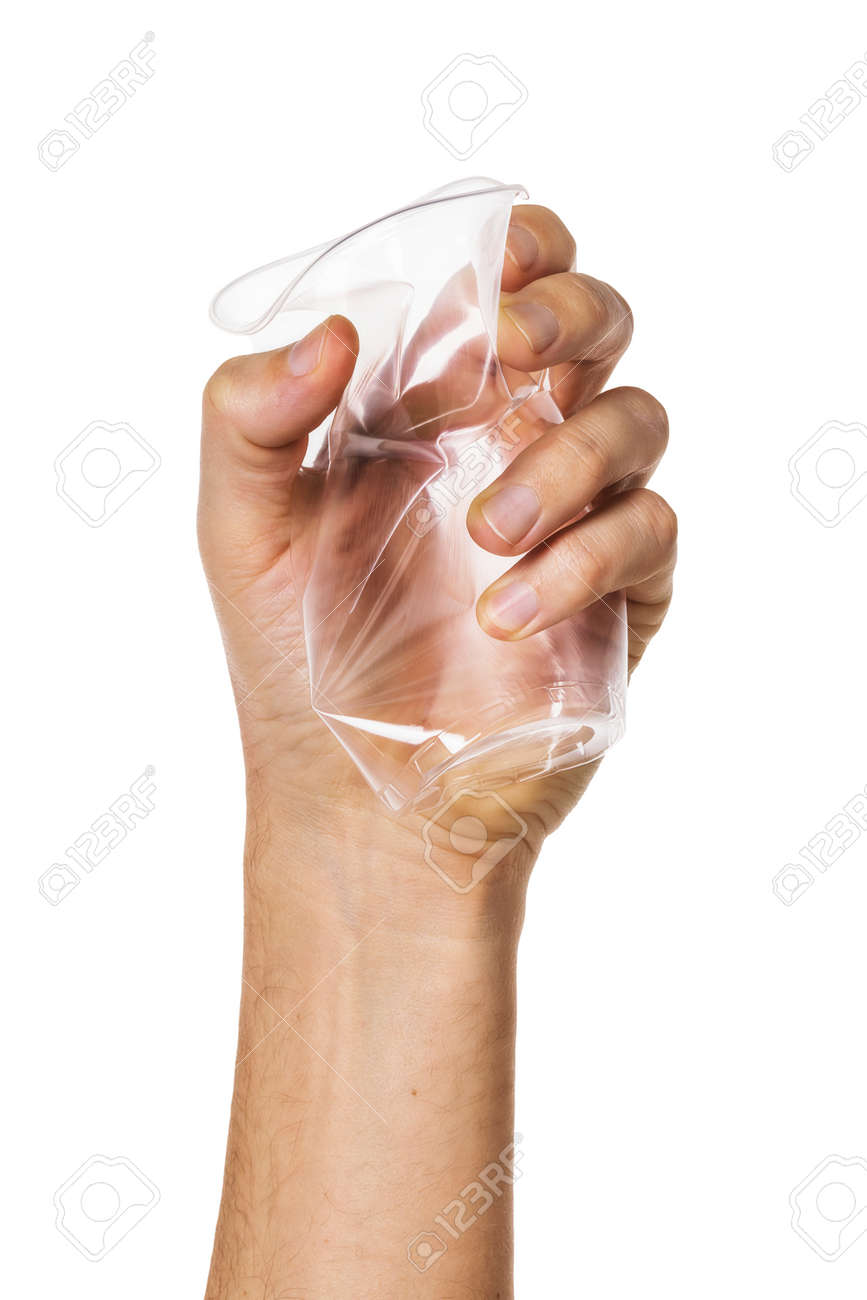plastic_glass: (202, 172, 652, 832)
